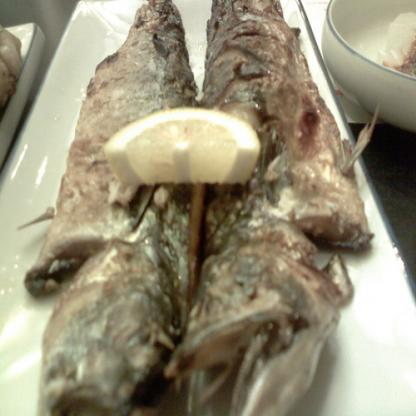Peixe: (48, 0, 352, 416)
